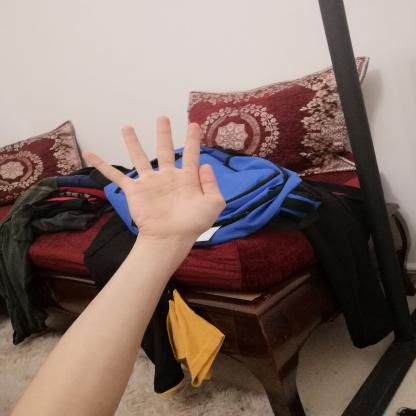SHEEN: (70, 110, 232, 246)
